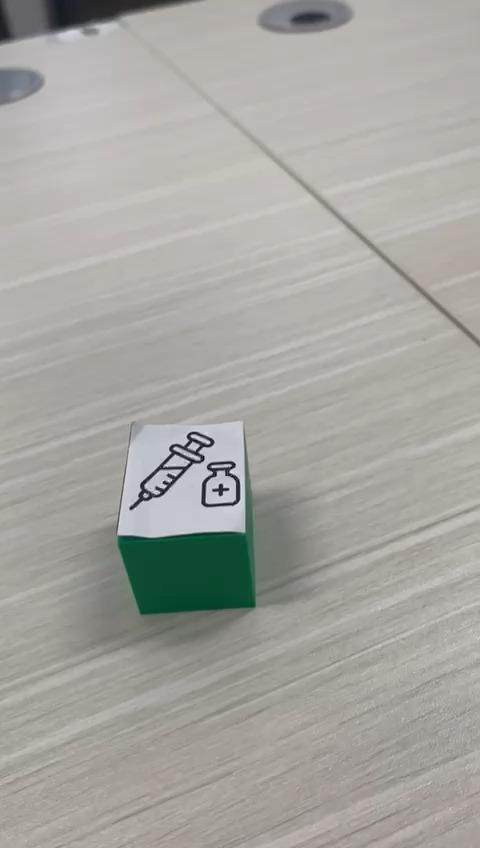antiseptic cream: (115, 418, 257, 615)
